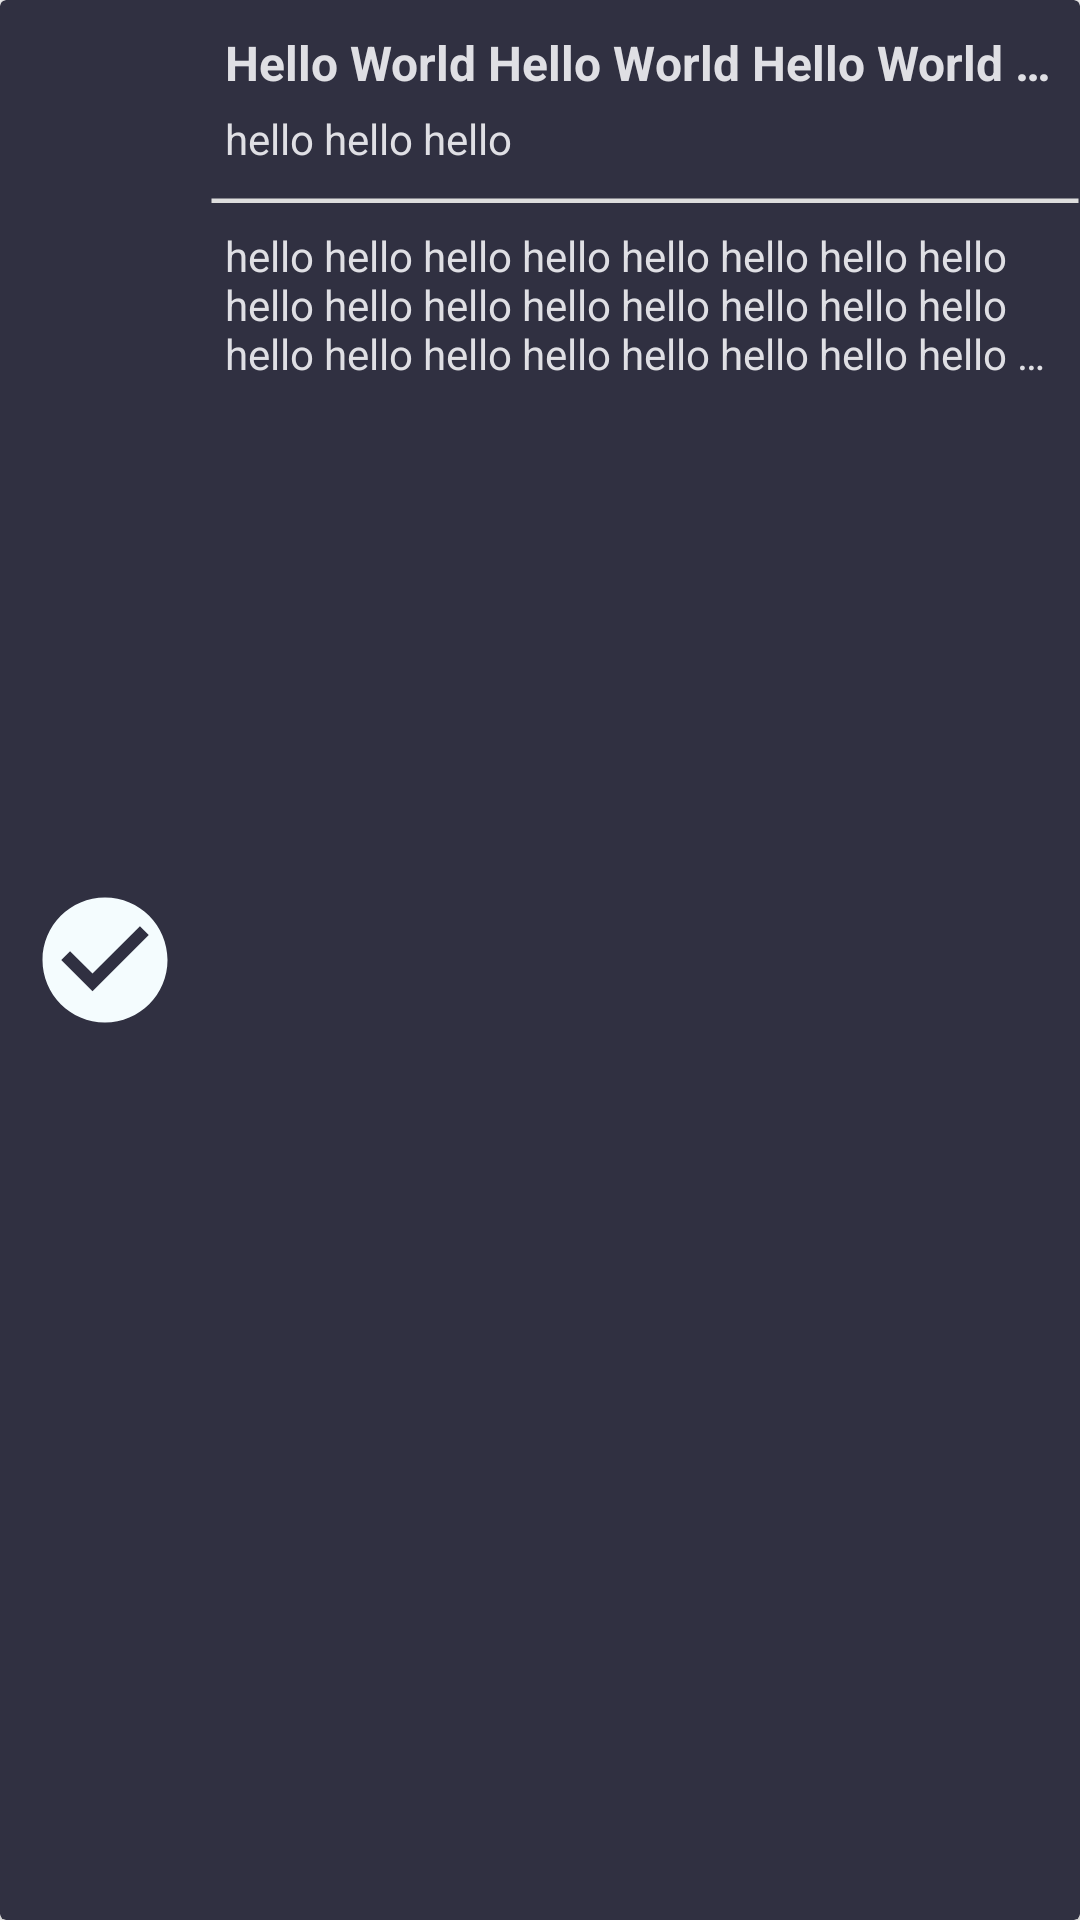

Point at icon controls on the screen. Image size 1080 x 1920, points as (x=x, y=y).
check circle: (x=105, y=960)
